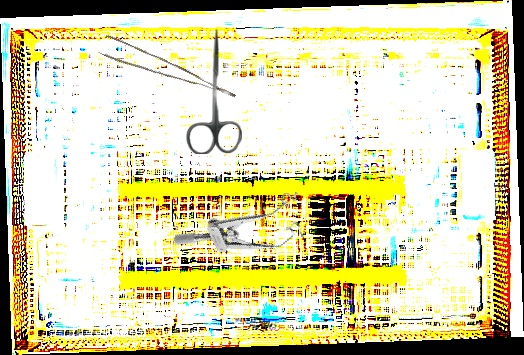Iris Scissors: (186, 29, 242, 154)
Speculum: (170, 178, 318, 290)
Tissue Forceps: (97, 28, 236, 119)
